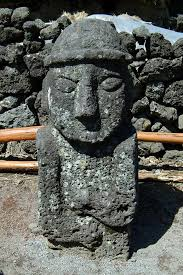Stone Statue: (27, 16, 150, 265)
